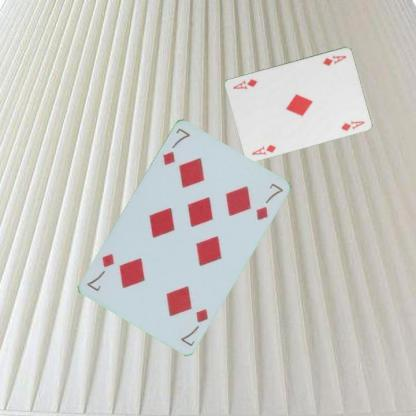7d: (160, 125, 192, 168), (178, 305, 210, 347)
Ad: (320, 53, 348, 67), (250, 142, 277, 156)
